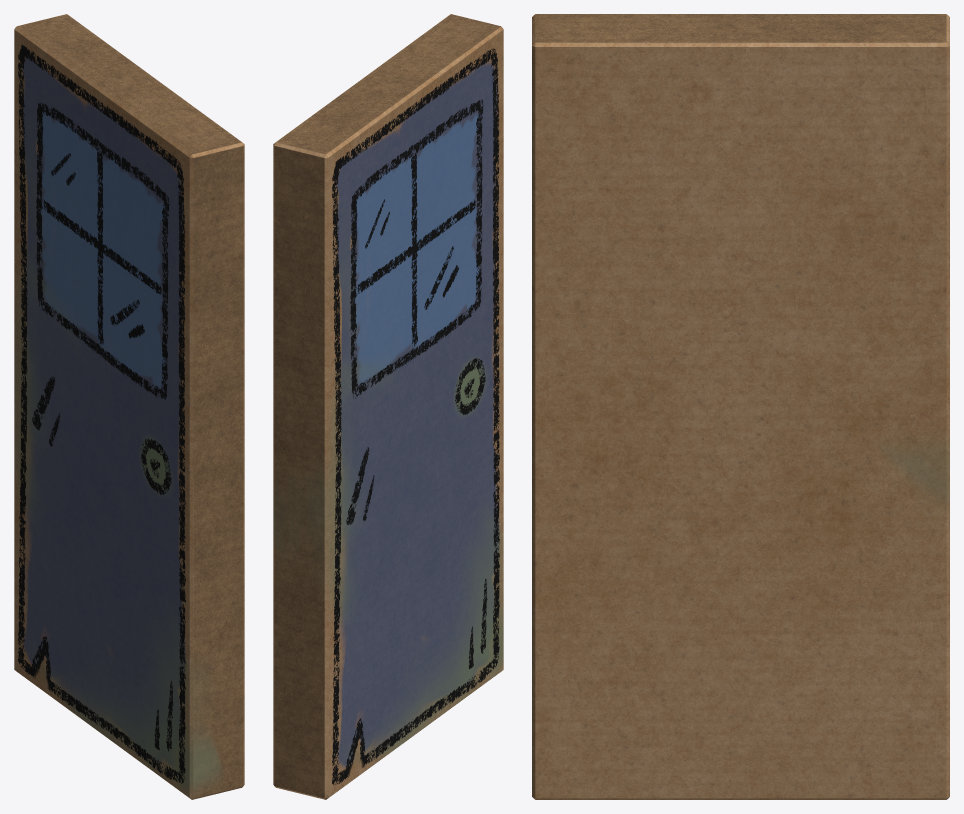
Rendered from 20s_Door.fbx.
3 views of the same model, side by side, from view 1: azimuth 30°, elevation 25°; view 2: azimuth 150°, elevation 25°; view 3: azimuth 270°, elevation 25° (orthographic). The views are drawn at different scales.
Visible parts, largest first — view 1: Door; view 2: Door; view 3: Door.
Boxes of the visible parts, x1,y1,x2,y2 form: Door: [14, 14, 244, 799]; Door: [273, 14, 503, 799]; Door: [532, 14, 949, 799].
Size of the model in its own units: 35.74 by 400 by 200.
Materials: 1 (1 with a texture image).
